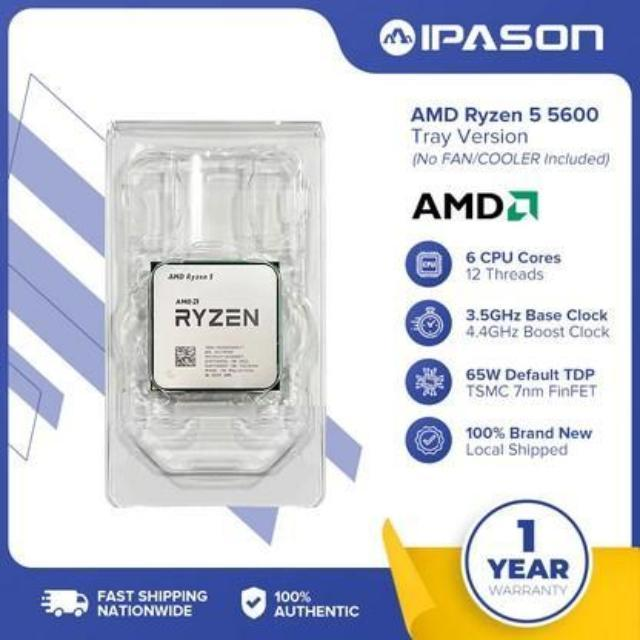CPU: (153, 266, 282, 394)
